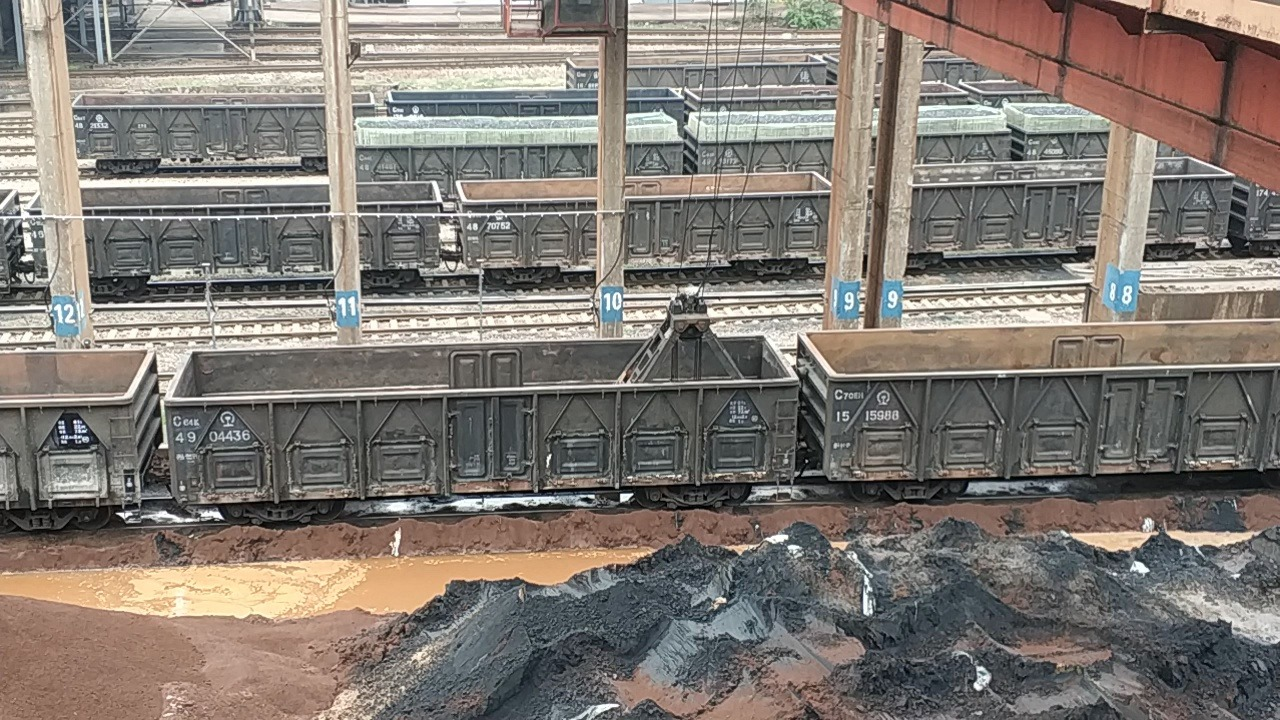grab: (614, 288, 758, 388)
